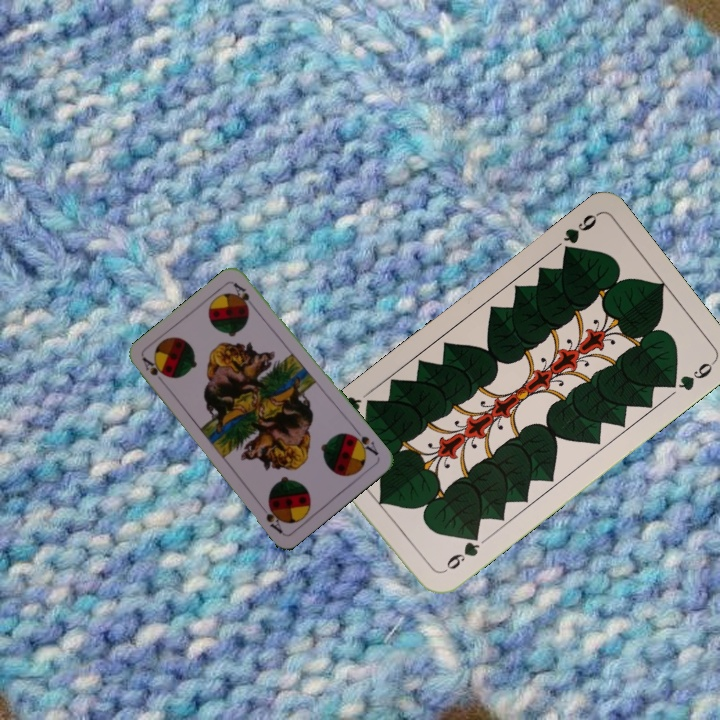G9: (437, 529, 482, 576), (559, 209, 601, 259)
SA: (346, 425, 381, 458), (139, 353, 167, 379)
